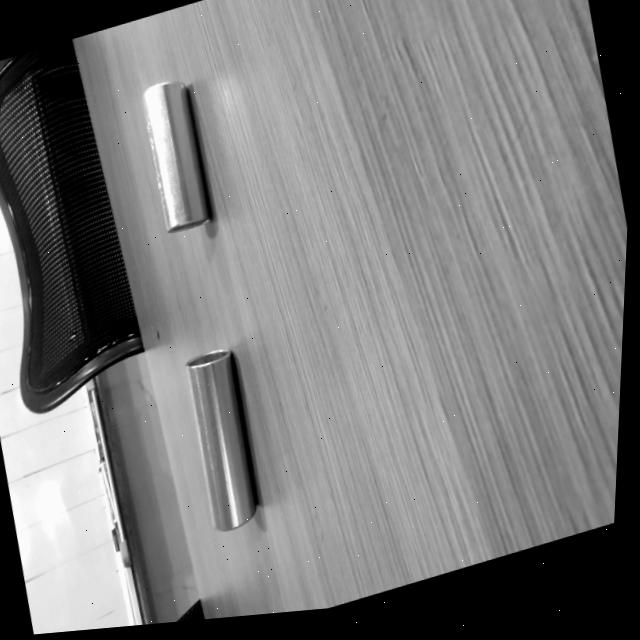Co_Lon: (139, 79, 211, 233)
Co_Nho: (183, 347, 259, 533)
